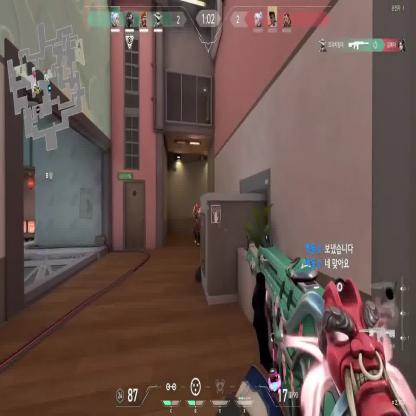enemy: (192, 202, 201, 247)
enemy_head: (194, 202, 198, 211)
